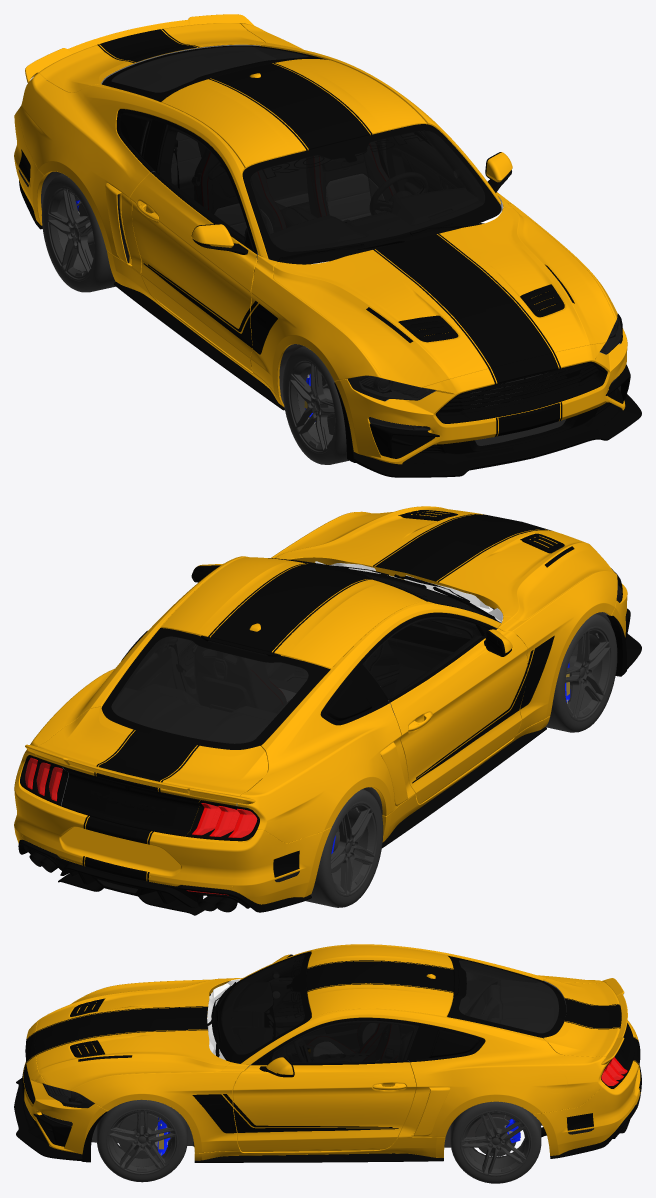
The model's file is ford_mustang_roush_2019_-_stage_3.glb.
3 views of the same model, one above another, from view 1: azimuth 30°, elevation 25°; view 2: azimuth 150°, elevation 25°; view 3: azimuth 270°, elevation 25° (orthographic). The views are drawn at different scales.
Parts seen in each view (by area): view 1: Object_13, Object_24, Object_5, Object_16, Object_29, Object_4, Object_9; view 2: Object_13, Object_24, Object_16, Object_4, Object_29, Object_5, Object_11, Object_22; view 3: Object_13, Object_24, Object_16, Object_28, Object_5, Object_4, Object_2, Object_22, Object_11, Object_27.
Boxes of the visible parts, x1,y1,x2,y2 form: Object_13: [14, 14, 627, 464]; Object_24: [19, 45, 641, 477]; Object_5: [18, 124, 622, 430]; Object_16: [19, 29, 574, 436]; Object_29: [41, 173, 348, 464]; Object_4: [111, 46, 308, 92]; Object_9: [470, 372, 566, 445]; Object_13: [14, 506, 627, 904]; Object_24: [18, 510, 641, 915]; Object_16: [82, 514, 574, 881]; Object_4: [111, 636, 308, 743]; Object_29: [306, 613, 617, 907]; Object_5: [97, 558, 622, 893]; Object_11: [25, 757, 257, 895]; Object_22: [315, 561, 503, 623]; Object_13: [23, 944, 640, 1160]; Object_24: [14, 952, 641, 1162]; Object_16: [22, 960, 641, 1133]; Object_28: [96, 1100, 541, 1183]; Object_5: [41, 954, 593, 1134]; Object_4: [459, 960, 559, 1033]; Object_2: [91, 997, 542, 1147]; Object_22: [207, 978, 241, 1060]; Object_11: [601, 1057, 627, 1085]; Object_27: [157, 1117, 520, 1155].
Size of what is drawn, in the model's own units: 1.89 by 1.25 by 4.39.
